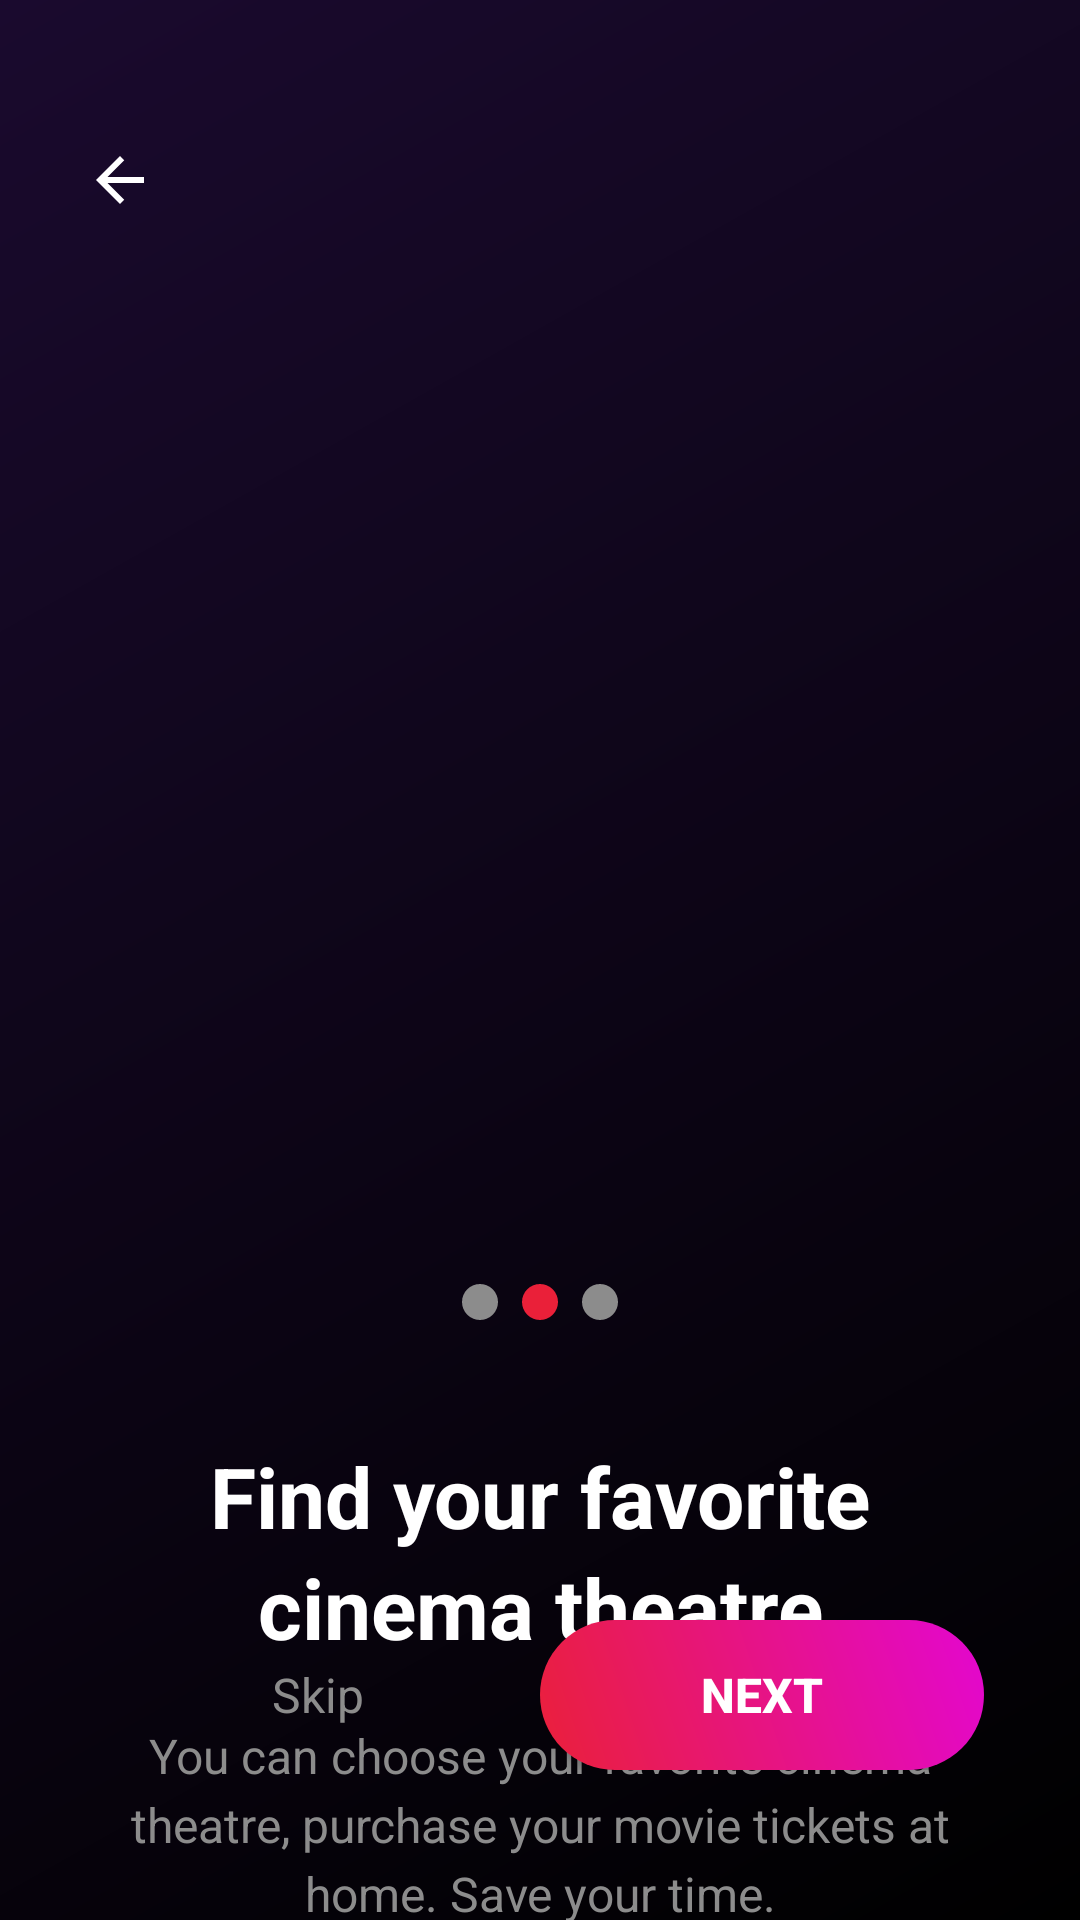

Screen size 1080*1920. Icon name, then its center in pixels as point (x, y):
back arrow: point (120, 180)
